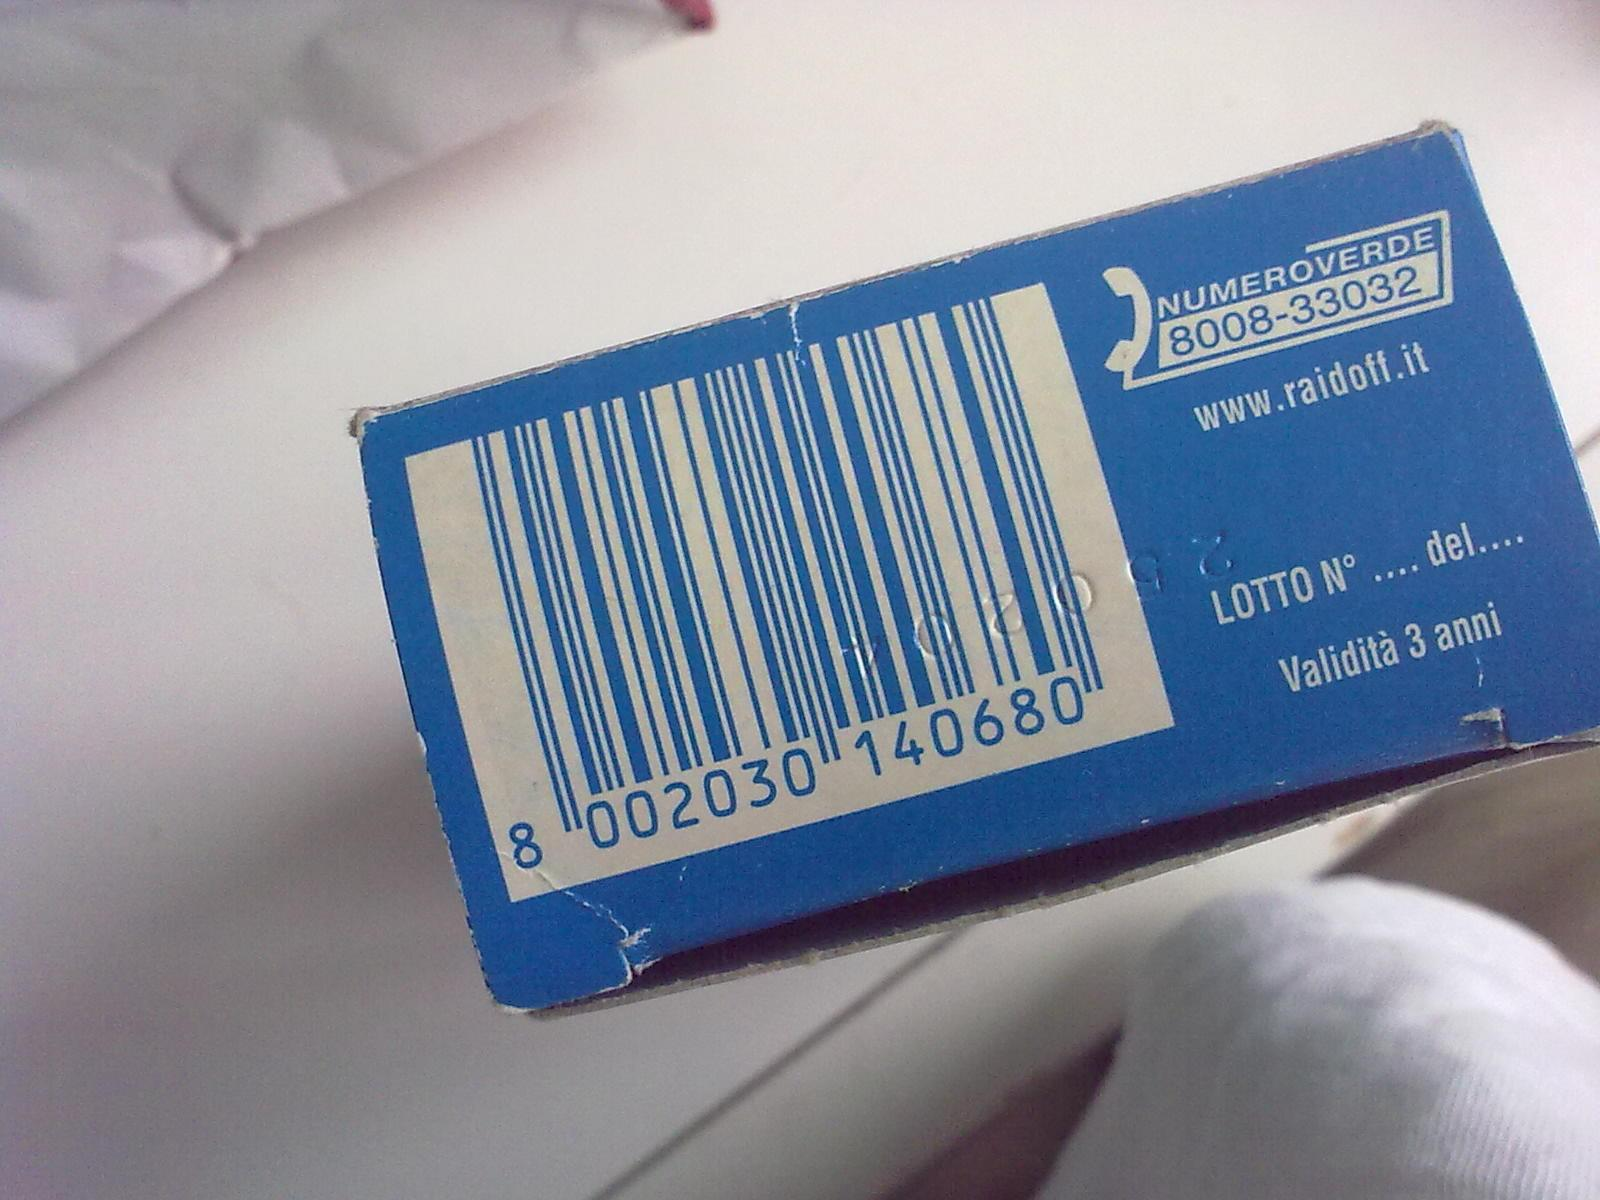barcode: (406, 280, 1175, 903)
